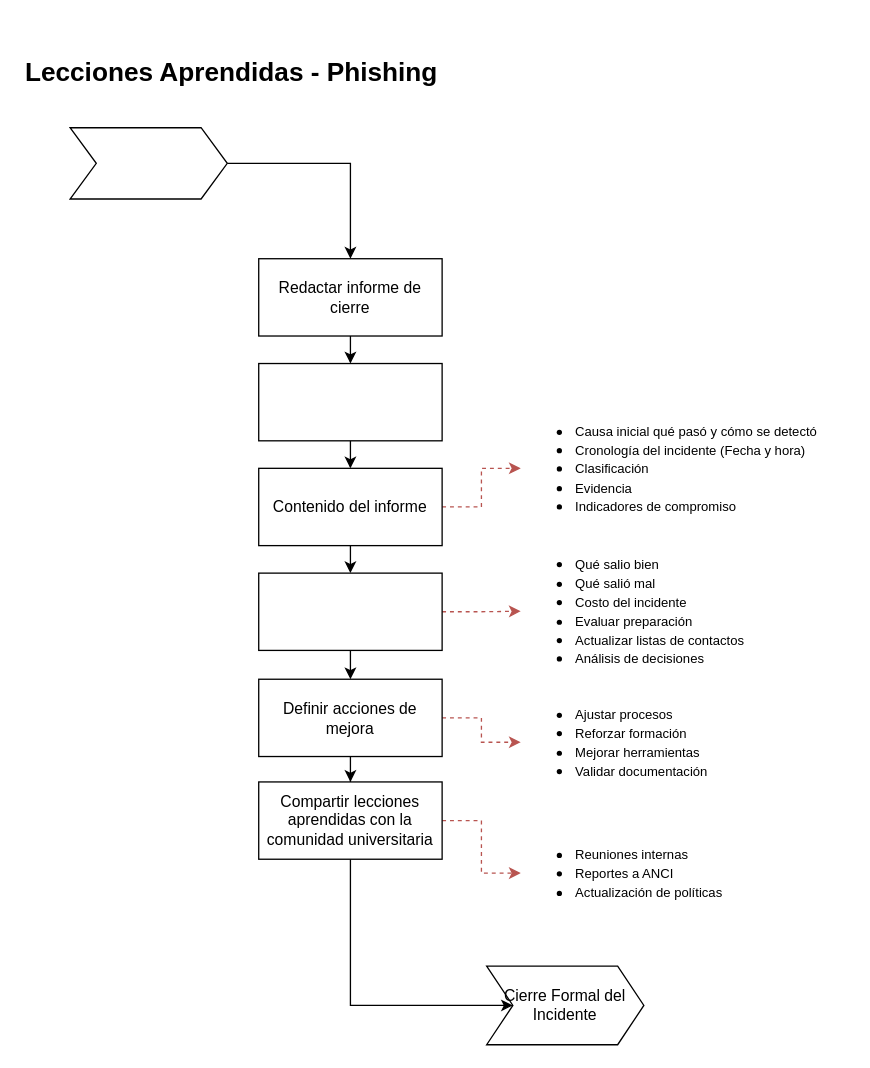
Some shapes in this 870 by 1068 pixel diagram are drawn without their labels. Each missing label, with the centre of its shape:
Distribuir informe a actores involucrados: the point at 349,401
Iniciar Lecciones Aprendidas: the point at 148,162
Realizar retrospectiva: the point at 349,611
